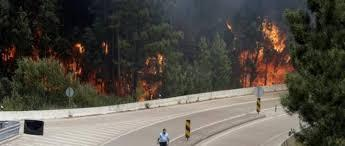fire: (3, 38, 166, 98), (235, 18, 298, 90)
